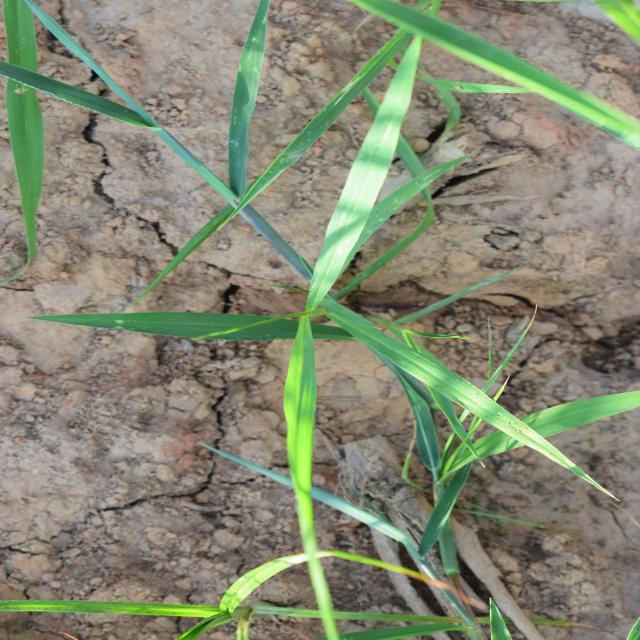green_foxtail: (142, 204, 482, 560)
